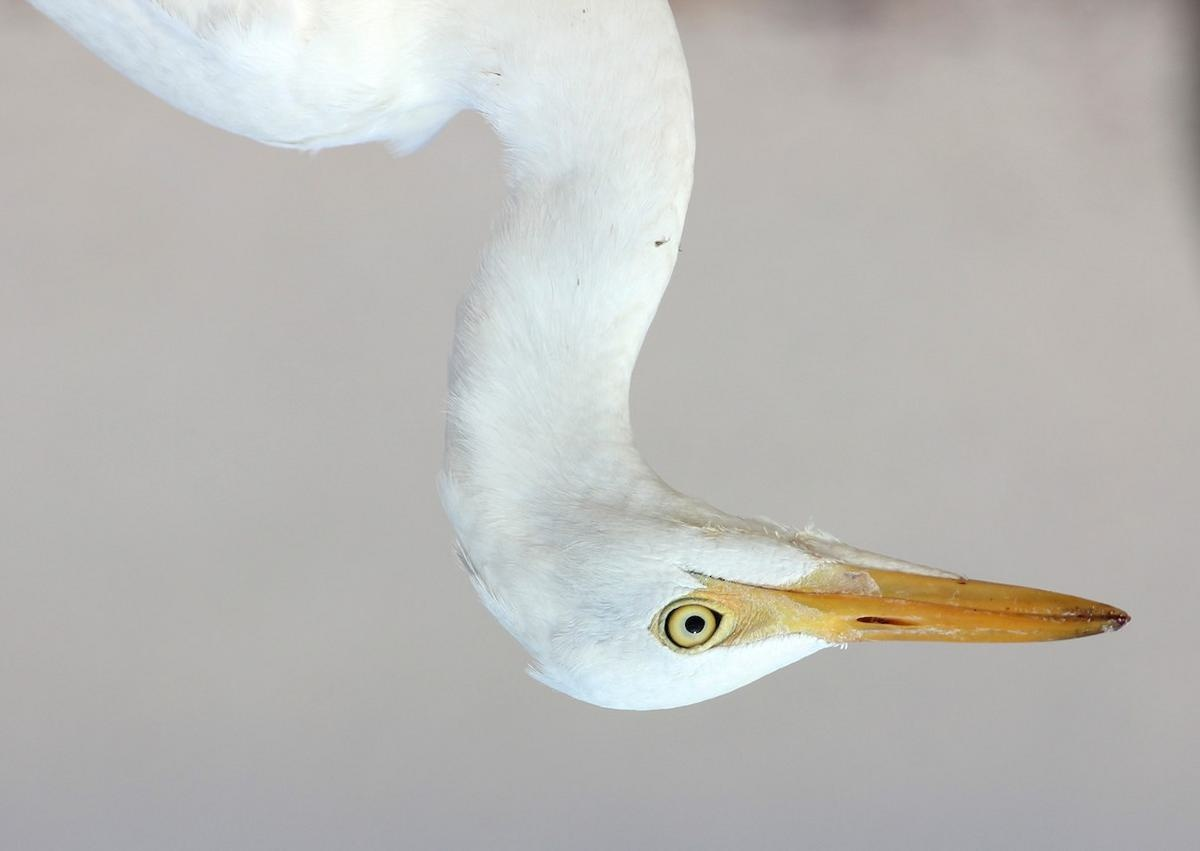egret: (1, 1, 1154, 730)
